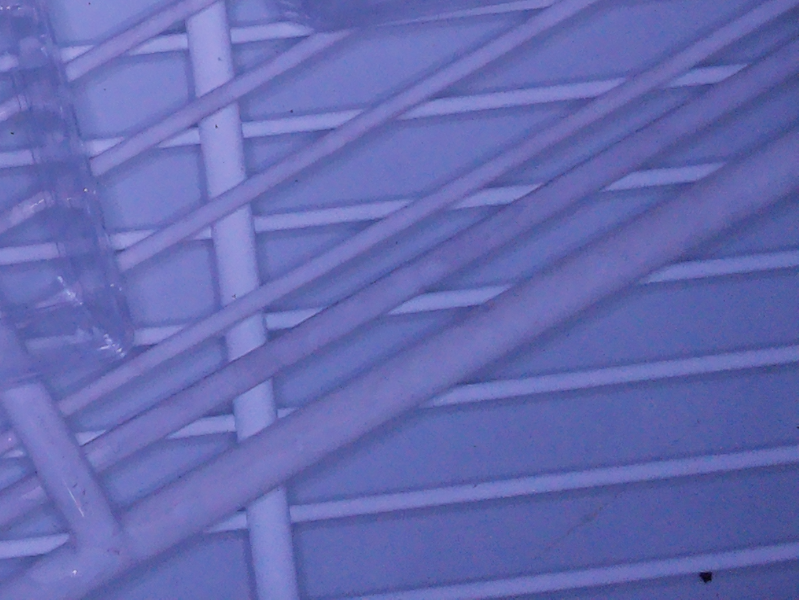plate: (1, 1, 135, 392)
